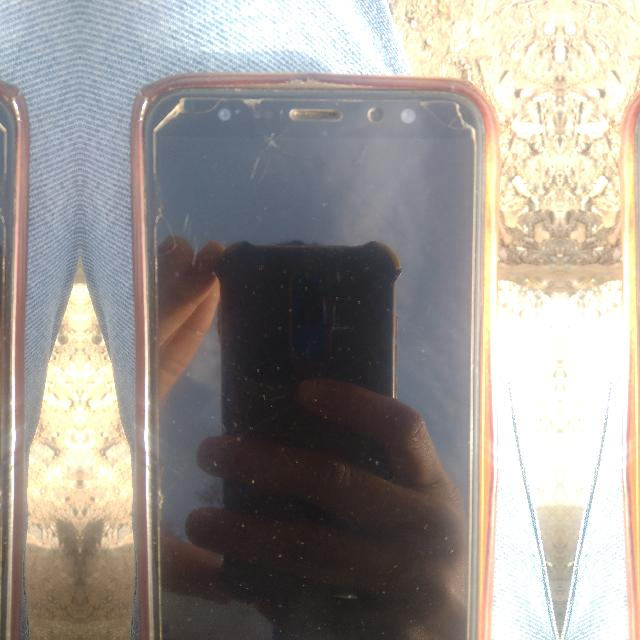phone_screen: (146, 90, 482, 639), (0, 100, 13, 548), (637, 126, 639, 136)
